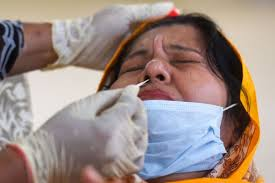Gloves: (19, 81, 148, 183), (50, 1, 179, 75)
mask_weared_incorrect: (111, 25, 229, 183)
